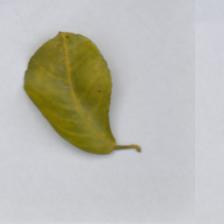greening: (26, 27, 117, 132)
